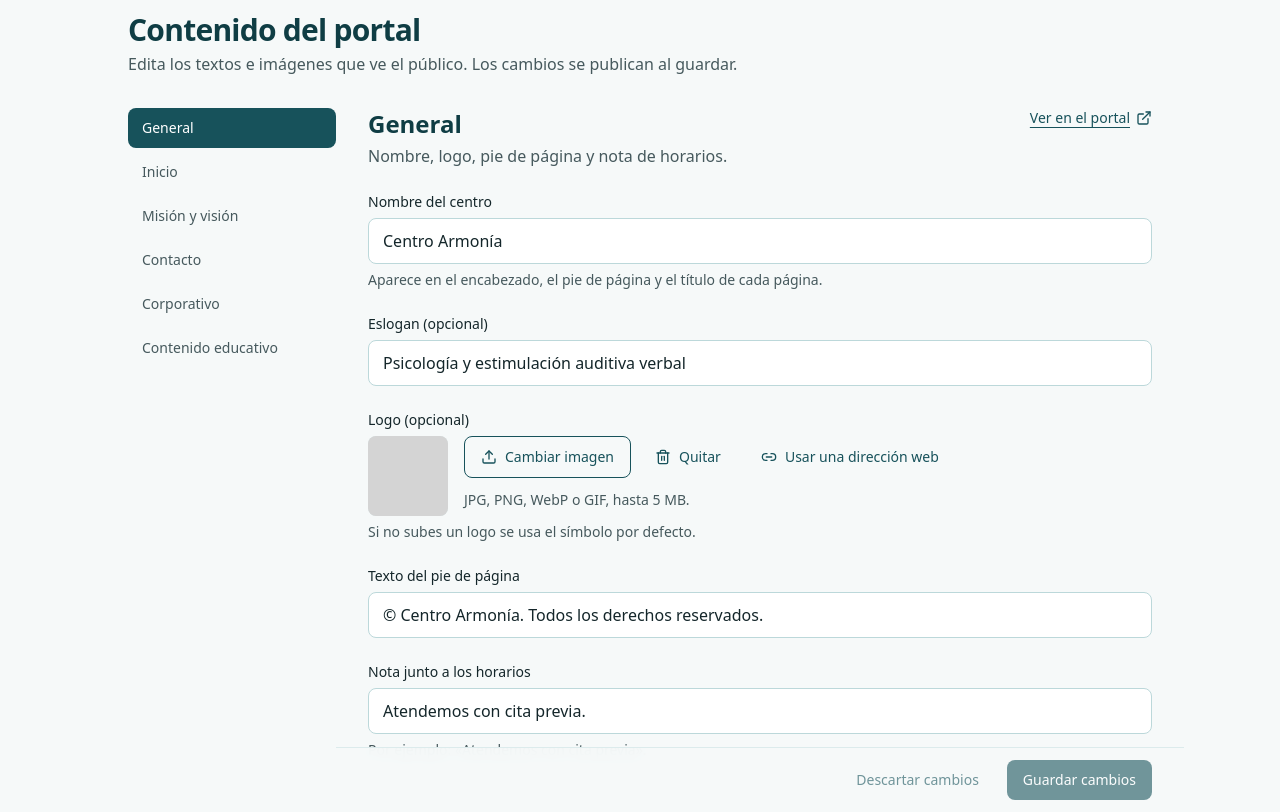
ControlImagen (subida de imágenes) › quitar la imagen limpia la URL y la llave
expect the button "Cambiar imagen" is shown: met, box x1=464 y1=436 x2=631 y2=478
What coordinates should you click on to do the following:
click the button "Quitar"
I would click on:
 (688, 457)
Its box is x1=639 y1=437 x2=737 y2=477.
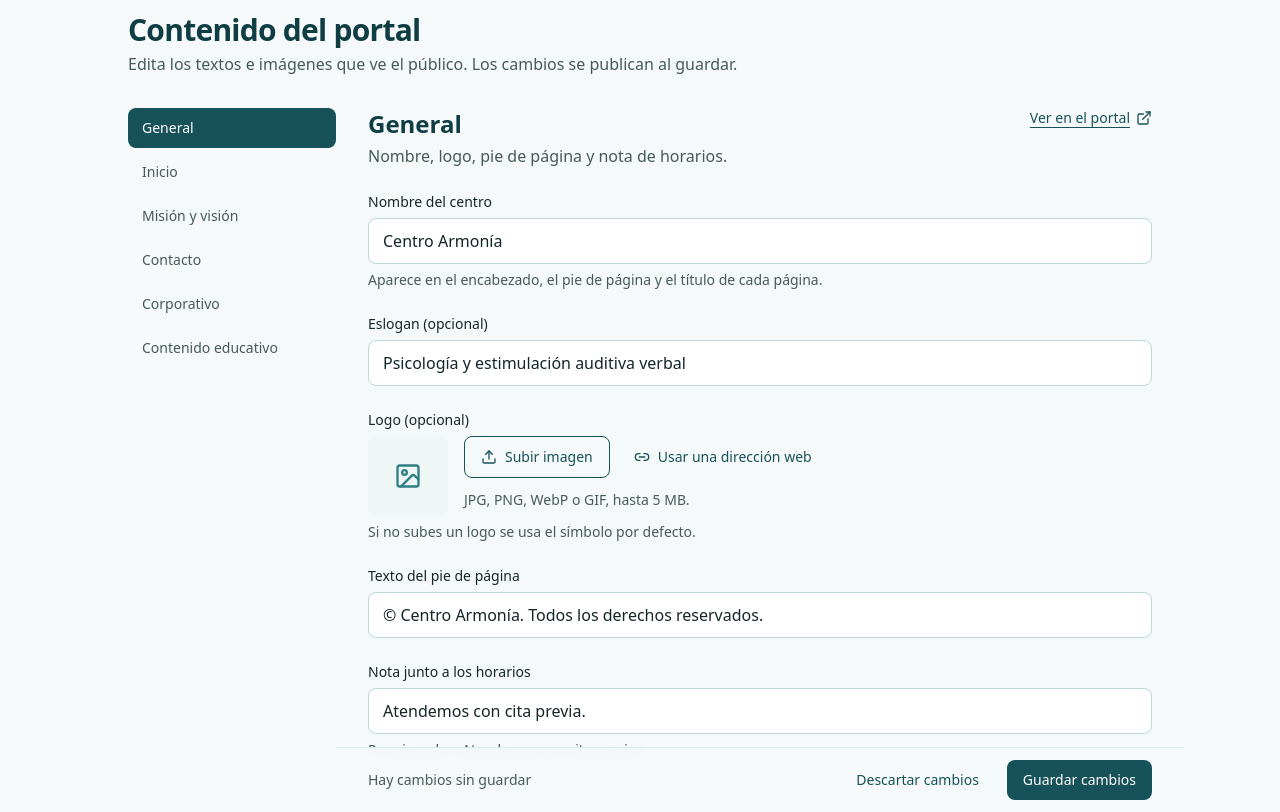
expect the button "Subir imagen" is shown: met, box x1=464 y1=436 x2=610 y2=478
What coordinates should you click on to do the following:
click the button "Guardar cambios"
I would click on:
 (1079, 780)
Its box is x1=1007 y1=760 x2=1152 y2=800.
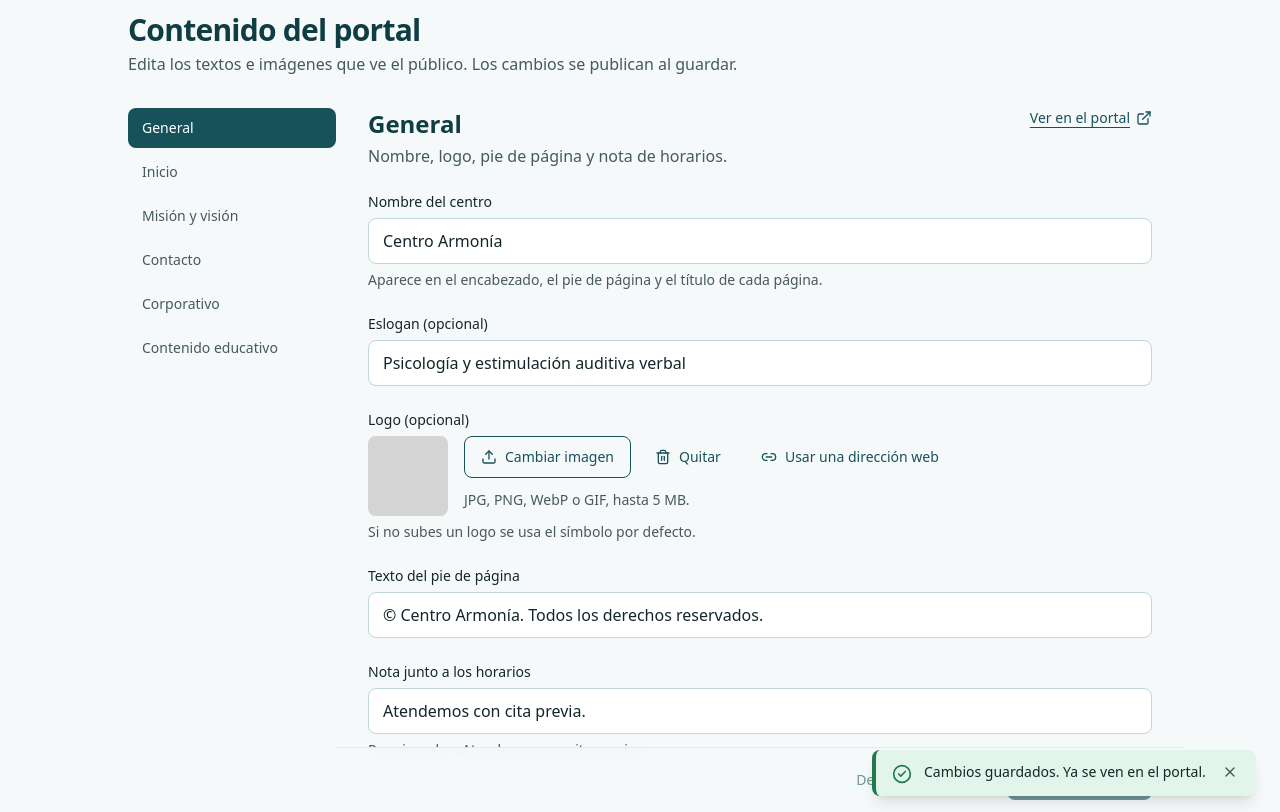
expect the text "Cambios guardados. Ya se ven en el portal." is shown: met, box x1=924 y1=762 x2=1208 y2=782
